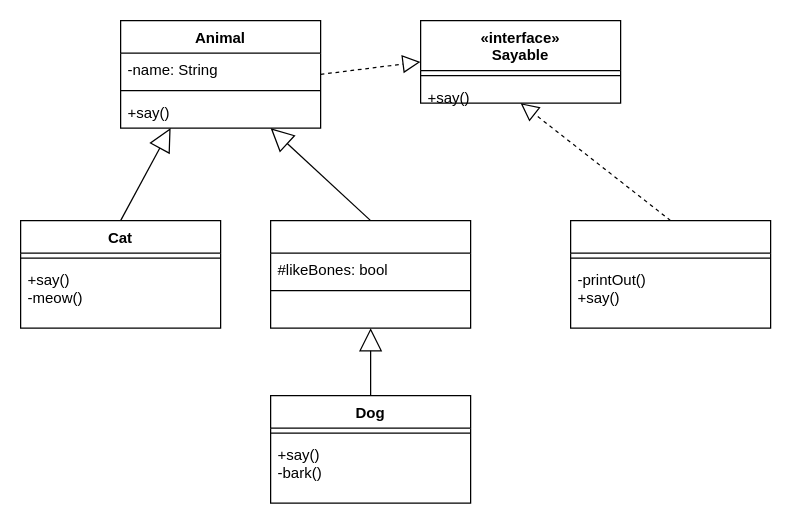
Some shapes in this 791 by 524 pixel diagram are drawn without their labels. The box of each missing label's shape, as (x1, y1, x2, y2) in pixels:
Canine: (269, 219, 471, 328)
Robot: (569, 219, 771, 328)
